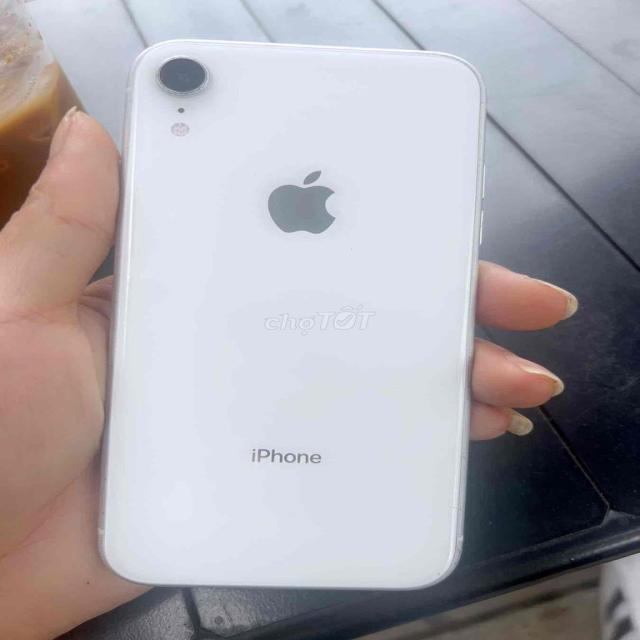scratch: (150, 52, 223, 102), (428, 510, 476, 581), (466, 95, 494, 116)
